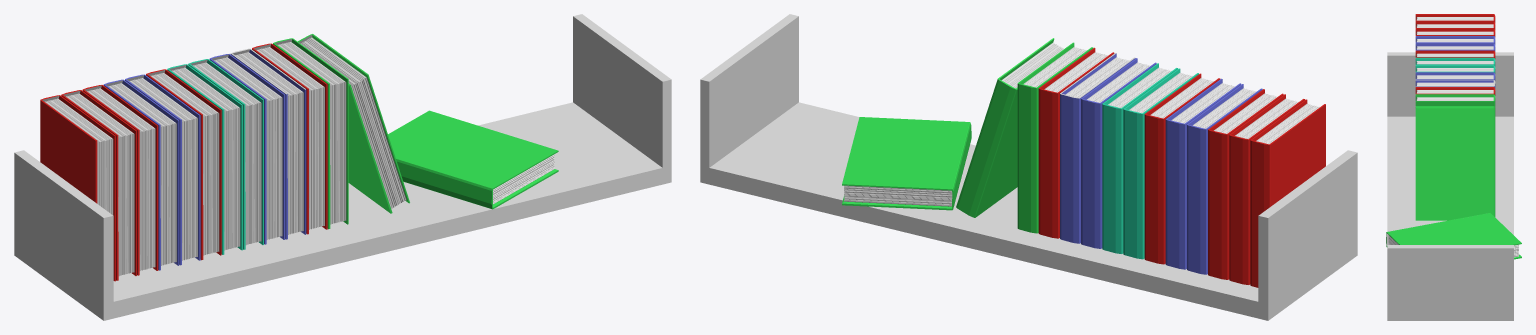
The model's file is Bookshelf.fbx.
The picture shows the model from 3 angles, left to right: view 1: azimuth 30°, elevation 25°; view 2: azimuth 150°, elevation 25°; view 3: azimuth 270°, elevation 25°; orthographic projection. The views are drawn at different scales.
Visible parts, largest first — view 1: Куб.022; view 2: Куб.022; view 3: Куб.022.
Boxes of the visible parts, box(x1,y1,x2,y2) form: Куб.022: box(14, 14, 671, 320); Куб.022: box(700, 14, 1357, 320); Куб.022: box(1386, 14, 1521, 320).
Size of the model in its own units: 1.41 by 0.4124 by 0.3854.
